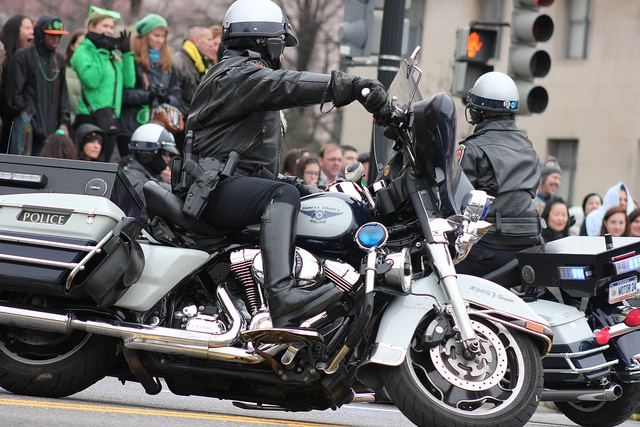non-vehicle: (1, 54, 554, 420), (467, 231, 640, 426)
